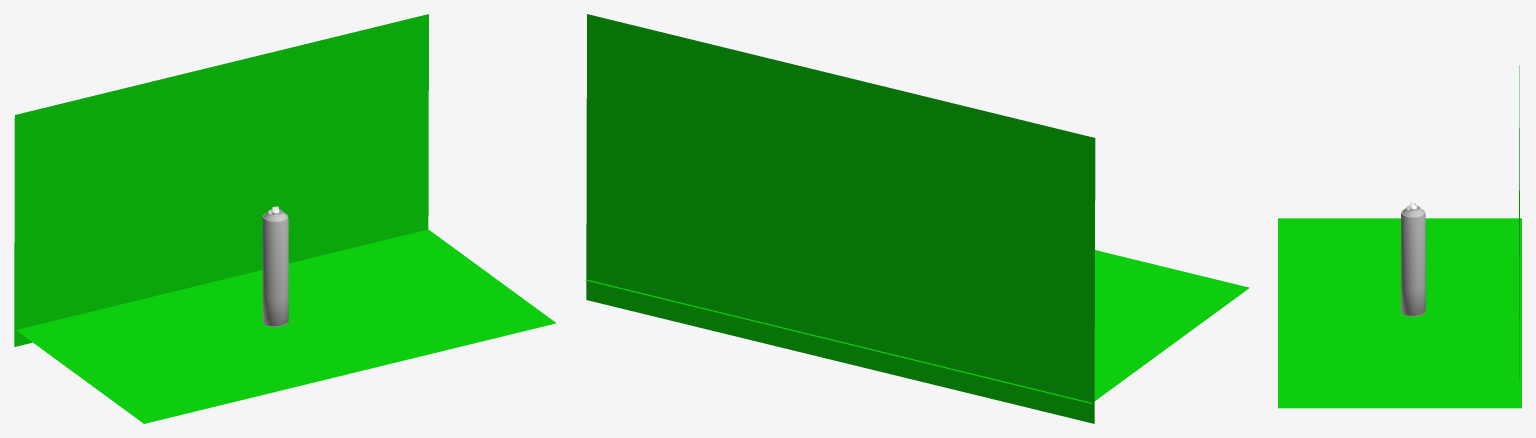
File: Sprayer.obj
The picture shows the model from 3 angles, left to right: view 1: azimuth 30°, elevation 25°; view 2: azimuth 150°, elevation 25°; view 3: azimuth 270°, elevation 25°; orthographic projection. The views are drawn at different scales.
Visible parts, largest first — view 1: Plane.001_Plane.002, Plane, Cylinder.001; view 2: Plane.001_Plane.002, Plane; view 3: Plane, Cylinder.001, Plane.001_Plane.002.
Part boxes in pixels (box(x1,y1,x2,y2)): Plane.001_Plane.002: box(14, 14, 428, 346); Plane: box(16, 229, 556, 423); Cylinder.001: box(262, 205, 288, 326); Plane.001_Plane.002: box(586, 14, 1095, 423); Plane: box(585, 250, 1249, 403); Plane: box(1278, 218, 1521, 408); Cylinder.001: box(1401, 201, 1425, 316); Plane.001_Plane.002: box(1519, 65, 1519, 380).
Bounding box in the file's own units: 36.78 × 19.73 × 19.88.
